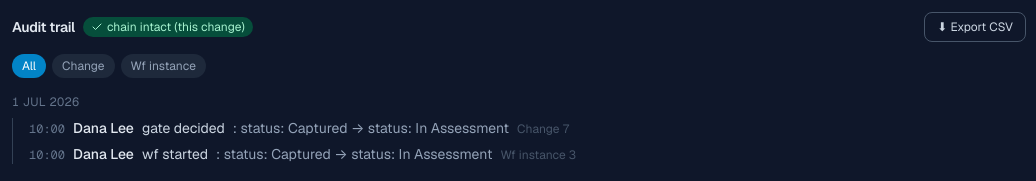
Test: AuditTimeline › filters by entity type and exports
Later steps or results of the test are not shown.
Expected: the text "gate decided" is shown, [142,118,225,138]
Click the button "Wf instance": (163, 66) [120,54,206,78]
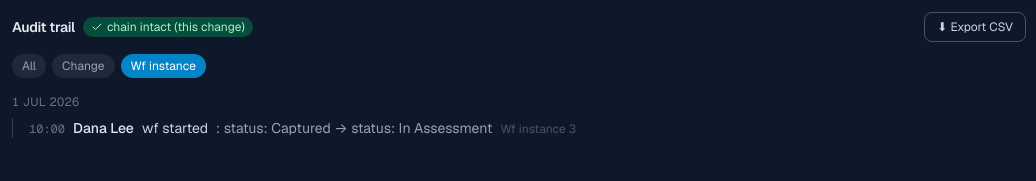
Expected: the text "wf started" is shown, [142,118,208,138]
Now the text "gate decided" is gone
